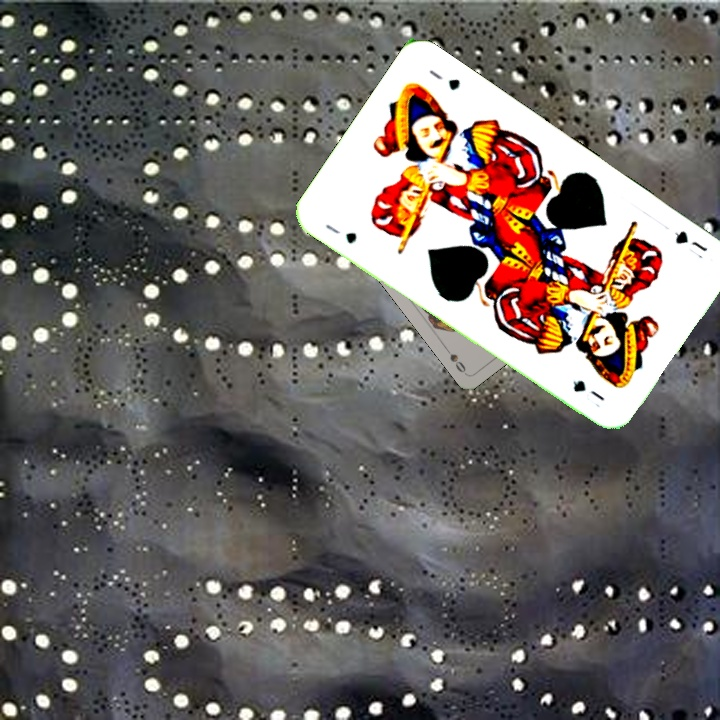GU: (671, 226, 710, 255), (321, 219, 360, 247)
